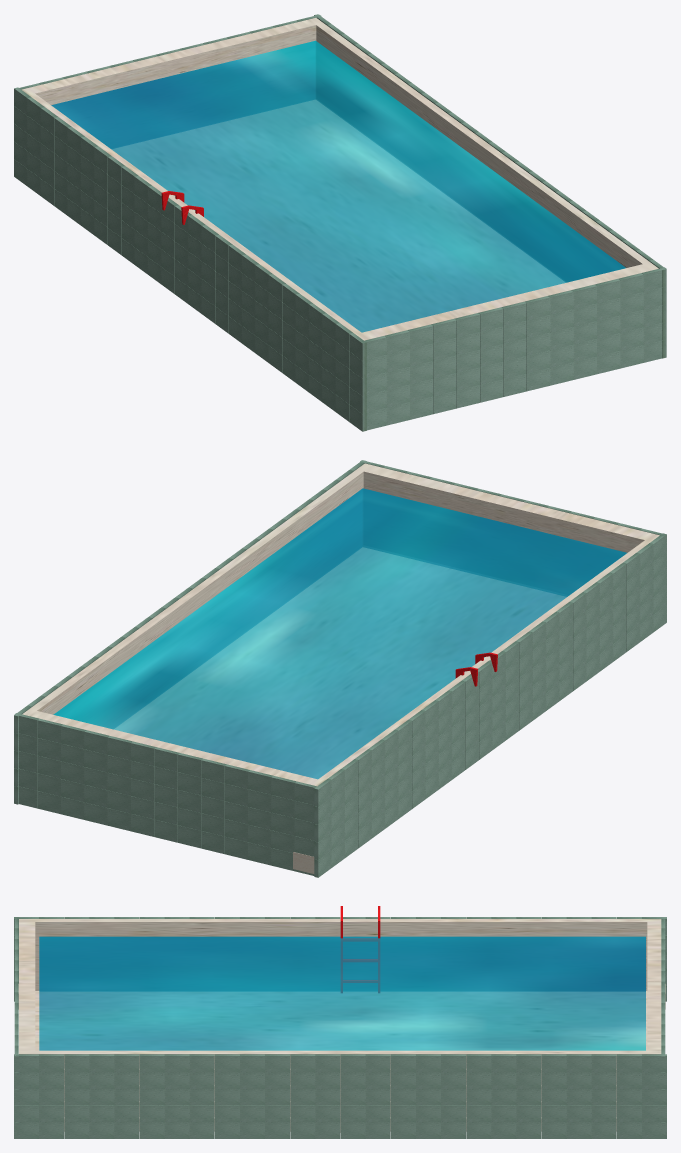
Rendered from giant_swimming_pool.glb.
The picture shows the model from 3 angles, top to bottom: view 1: azimuth 30°, elevation 25°; view 2: azimuth 150°, elevation 25°; view 3: azimuth 270°, elevation 25°; orthographic projection. The views are drawn at different scales.
Visible parts, largest first — view 1: Cube.001, Cube, Cube.006, Cube.005; view 2: Cube.001, Cube, Cube.006, Cube.005; view 3: Cube.001, Cube.006, Cube, Cube.005.
Boxes of the visible parts, x1,y1,x2,y2 form: Cube.001: (51, 40, 625, 332); Cube: (21, 18, 658, 340); Cube.006: (14, 14, 666, 431); Cube.005: (19, 14, 666, 430); Cube.001: (53, 488, 626, 779); Cube: (22, 463, 659, 873); Cube.006: (14, 460, 666, 877); Cube.005: (14, 460, 665, 875); Cube.001: (39, 936, 645, 1050); Cube.006: (14, 917, 666, 1138); Cube: (18, 919, 665, 1132); Cube.005: (14, 917, 665, 1122).
Bounding box in the file's own units: 110 × 35.51 × 214.
Materials: 4 (4 with a texture image).
